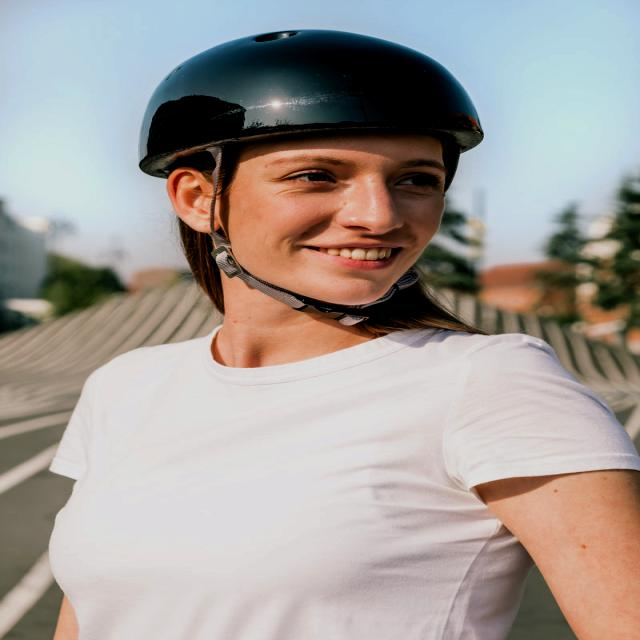helmet: (141, 29, 483, 177)
